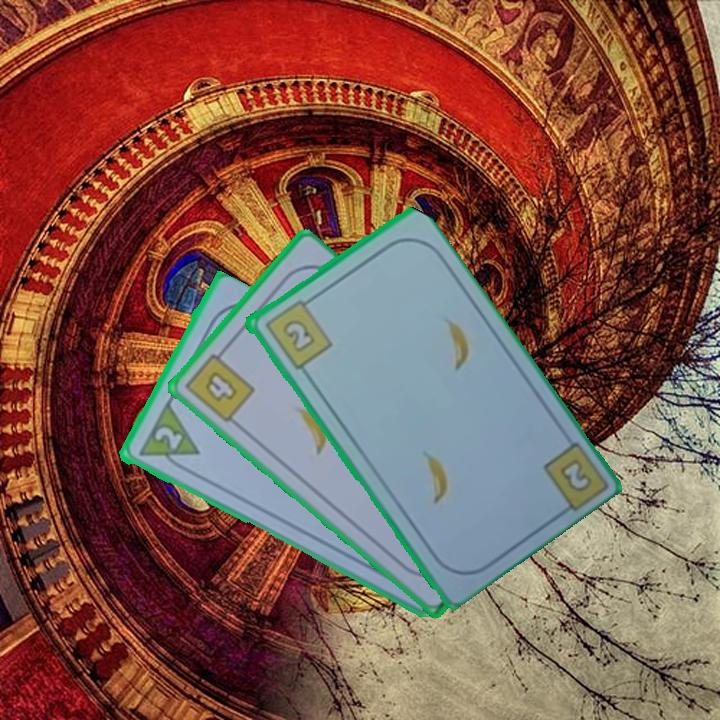2b: (260, 294, 334, 372), (555, 455, 595, 496)
2p: (150, 422, 185, 453)
4b: (181, 343, 258, 426)
